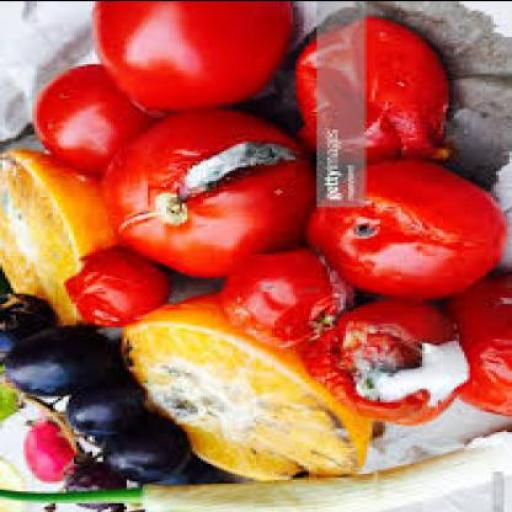biodegradable: (116, 295, 366, 482), (0, 428, 512, 511), (105, 106, 312, 282), (303, 162, 504, 302), (0, 149, 135, 330), (90, 2, 293, 115), (293, 18, 445, 165), (293, 302, 468, 425), (213, 253, 354, 348), (29, 65, 142, 170), (440, 277, 510, 418), (66, 249, 172, 328), (2, 328, 106, 396), (98, 423, 190, 484), (61, 371, 140, 435), (0, 292, 48, 354), (58, 463, 120, 511), (22, 421, 68, 482), (126, 458, 216, 488), (0, 375, 21, 421), (0, 272, 10, 304)
